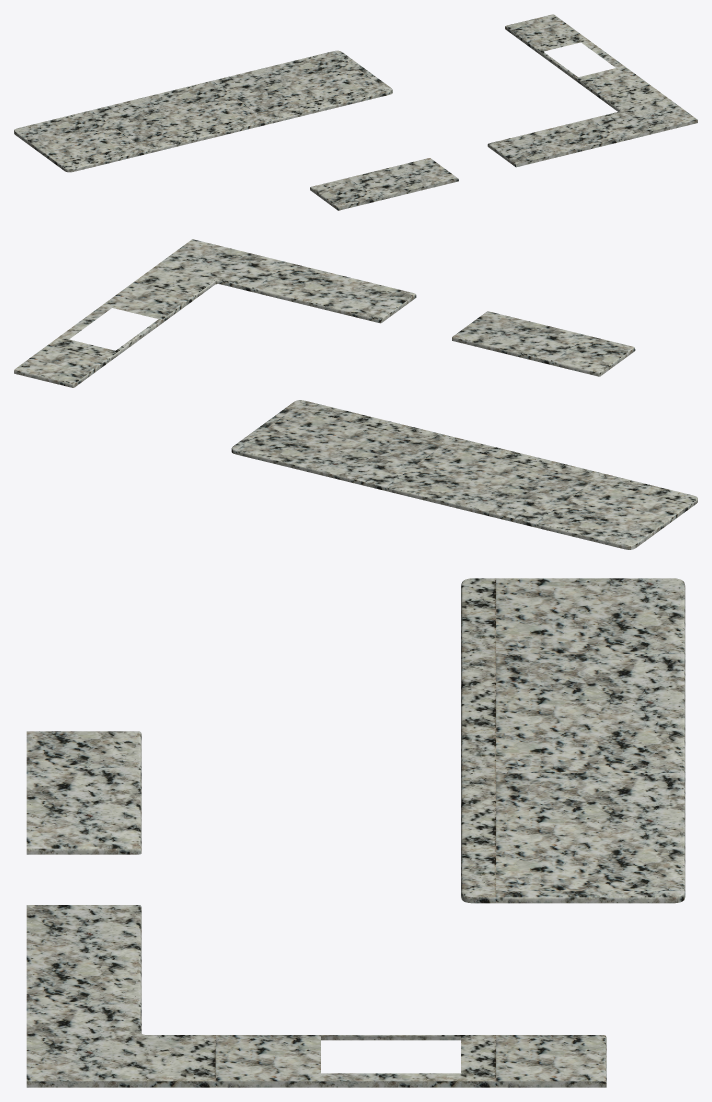
Rendered from Countertops_GraniteValleNevado.glb.
3 views of the same model, one above another, from view 1: azimuth 30°, elevation 25°; view 2: azimuth 150°, elevation 25°; view 3: azimuth 270°, elevation 25° (orthographic). The views are drawn at different scales.
Visible parts, largest first — view 1: Countertops_Granite Valle Nevado; view 2: Countertops_Granite Valle Nevado; view 3: Countertops_Granite Valle Nevado.
Boxes of the visible parts, x1,y1,x2,y2 form: Countertops_Granite Valle Nevado: (14, 14, 697, 210); Countertops_Granite Valle Nevado: (14, 239, 697, 549); Countertops_Granite Valle Nevado: (26, 578, 685, 1087).
Bounding box in the file's own units: 8.6 × 0.09 × 4.7.
1 material, 1 textured.
